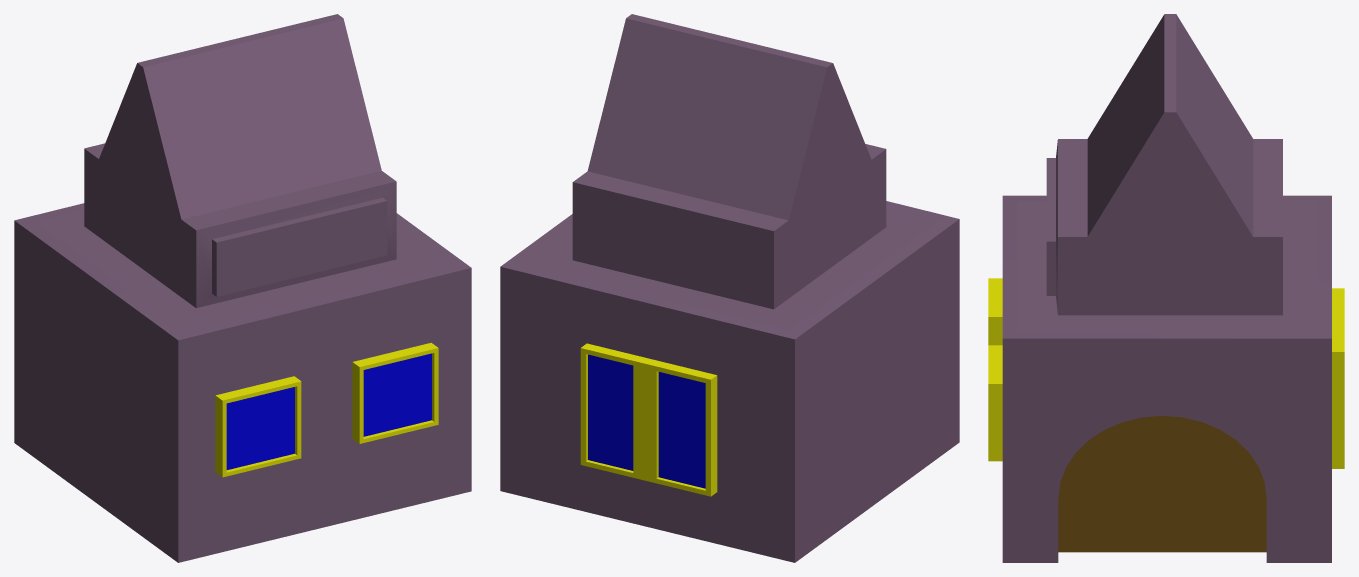
The picture shows the model from 3 angles, left to right: view 1: azimuth 30°, elevation 25°; view 2: azimuth 150°, elevation 25°; view 3: azimuth 270°, elevation 25°; orthographic projection.
Parts seen in each view (by area): view 1: polySurface55, polySurface56, polySurface57, polySurface58; view 2: polySurface55, polySurface56, pCube53; view 3: polySurface55, polySurface56, pCube53, polySurface58, polySurface57.
Boxes of the visible parts, box(x1,y1,x2,y2) form: polySurface55: box(14, 203, 471, 562); polySurface56: box(84, 14, 396, 308); polySurface57: box(215, 376, 301, 477); polySurface58: box(352, 342, 438, 443); polySurface55: box(500, 201, 959, 562); polySurface56: box(572, 14, 886, 309); pCube53: box(580, 343, 717, 496); polySurface55: box(1002, 195, 1331, 562); polySurface56: box(1046, 14, 1282, 315); pCube53: box(1332, 288, 1344, 468); polySurface58: box(988, 345, 1002, 461); polySurface57: box(988, 278, 1002, 345).
Bounding box in the file's own units: 16.17 × 22.42 × 16.93.
